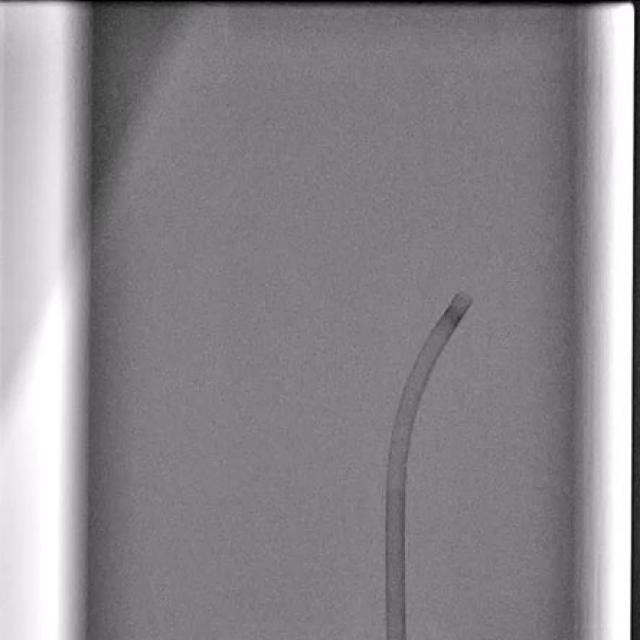bend: (385, 473, 406, 490)
entry: (388, 634, 407, 640)
marker: (444, 304, 466, 324)
tip: (456, 293, 474, 303)
